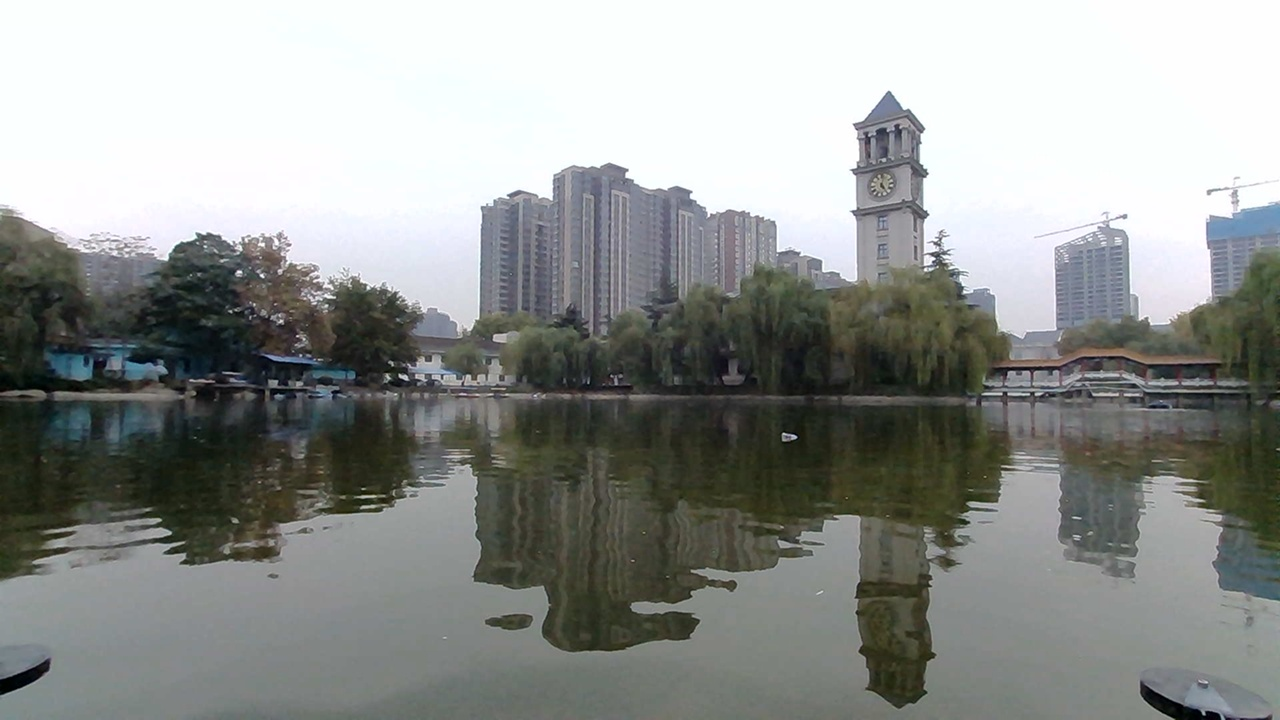bottle: (775, 419, 814, 449)
